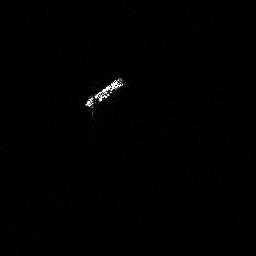ship: (79, 73, 130, 113)
